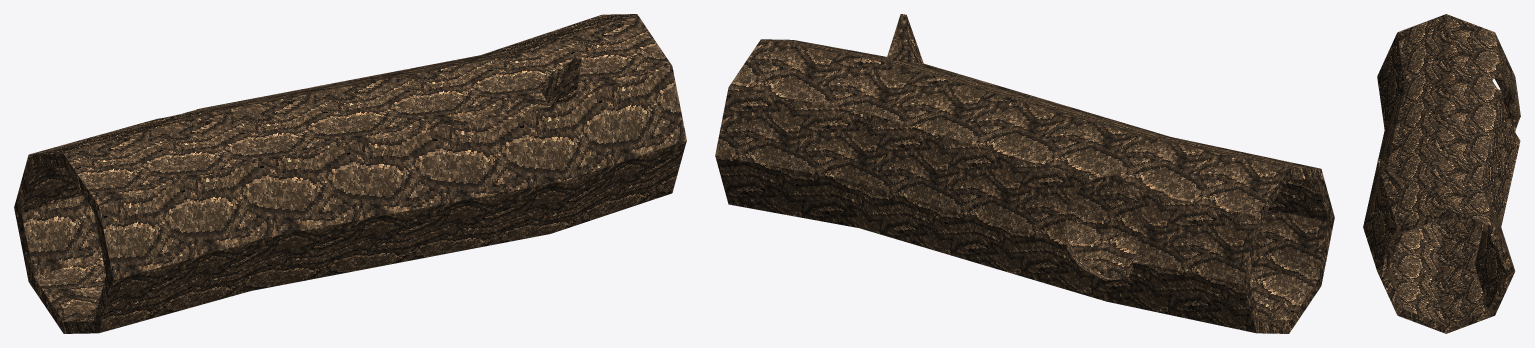
File: wood_log.glb
3 renders of one model, left to right at view 1: azimuth 30°, elevation 25°; view 2: azimuth 150°, elevation 25°; view 3: azimuth 270°, elevation 25°, orthographic. The views are drawn at different scales.
Parts seen in each view (by area): view 1: wood_log_col; view 2: wood_log_col; view 3: wood_log_col.
Boxes of the visible parts, box(x1,y1,x2,y2) form: wood_log_col: box(14, 14, 686, 333); wood_log_col: box(715, 14, 1334, 333); wood_log_col: box(1363, 14, 1520, 333).
Bounding box in the file's own units: 2.01 × 0.6651 × 0.6853.
Materials: 1 (1 with a texture image).
